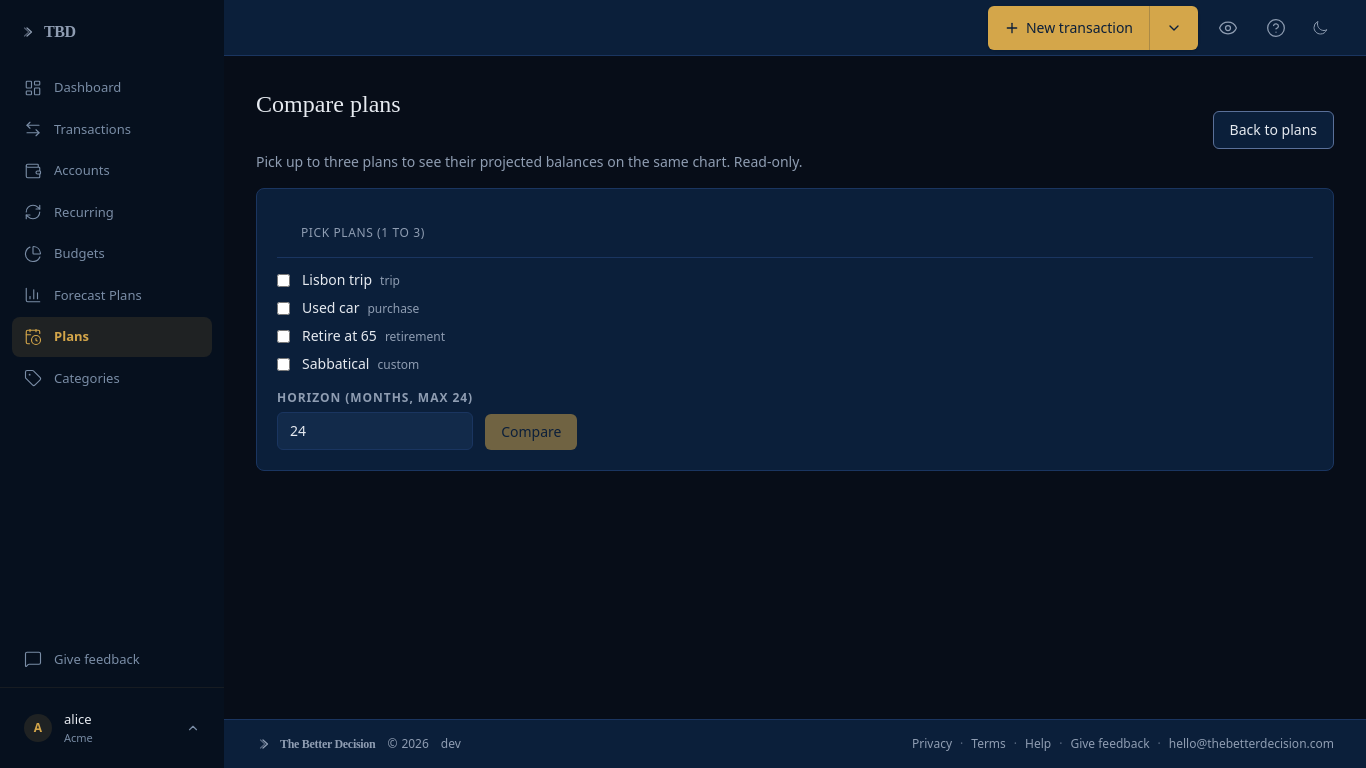
Test: /plans/compare page › selecting and clicking Compare POSTs to /api/v1/scenarios/compare and renders results
The width and height of the screenshot is (1366, 768).
Click the checkbox with test id "compare-plan-checkbox-1". click: click(284, 280)
box: [277,274,290,286]
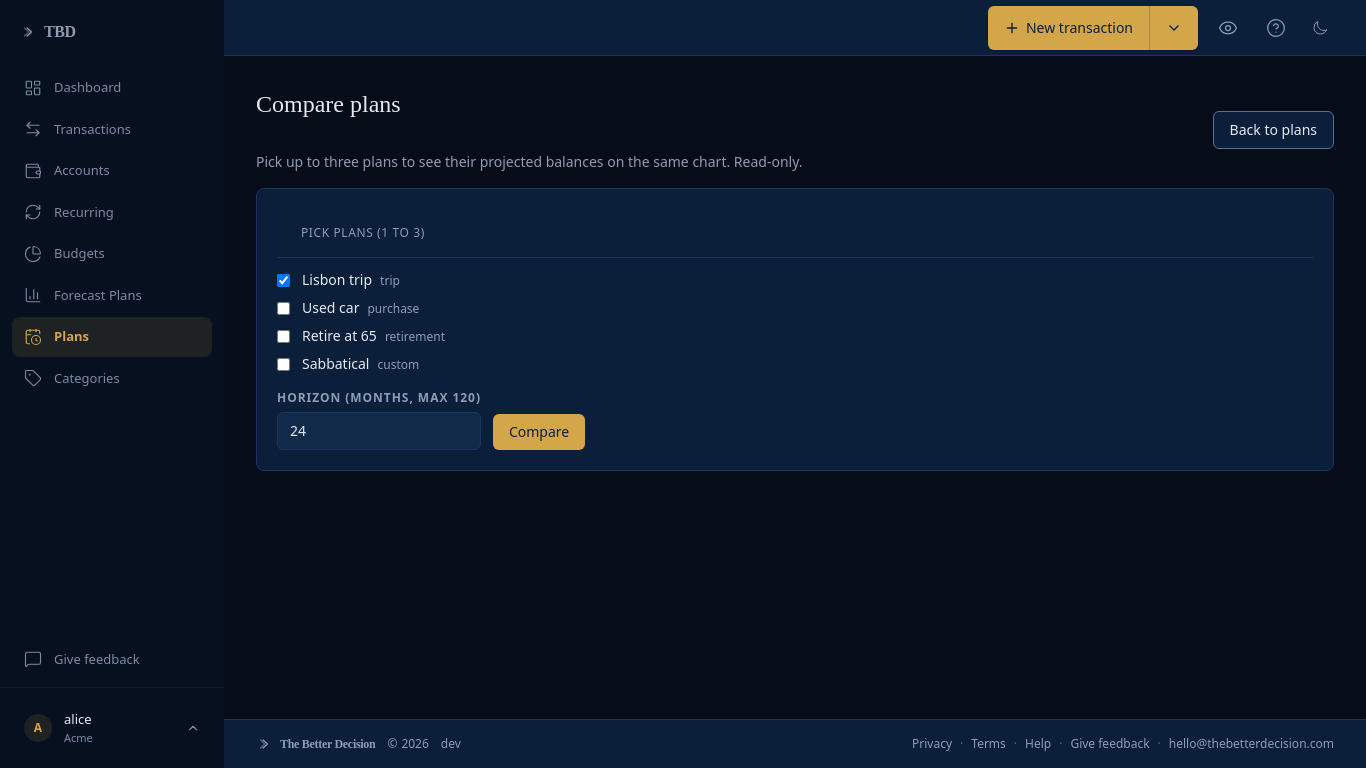
Click the checkbox with test id "compare-plan-checkbox-2". click: click(284, 308)
box: [277,302,290,314]
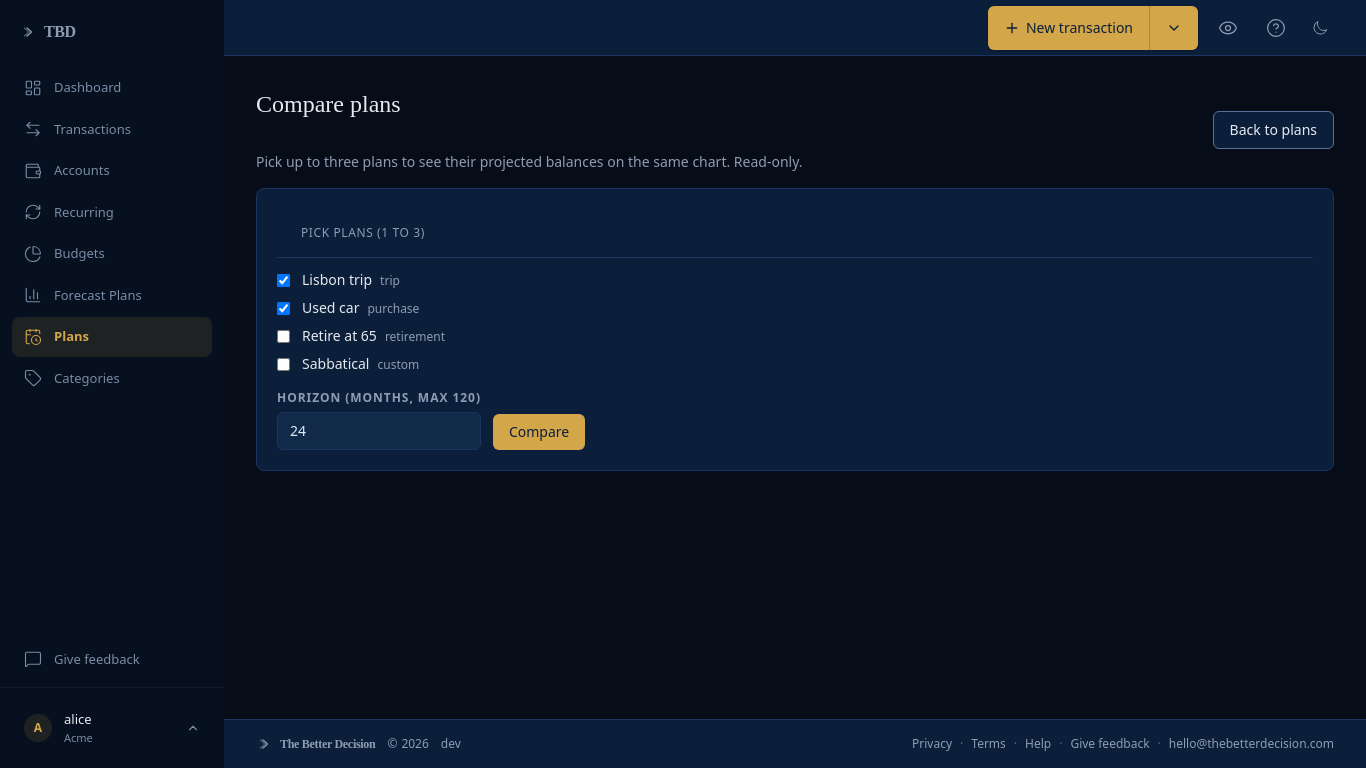
Click the button with test id "compare-run". click: click(539, 432)
box: [493,414,585,450]
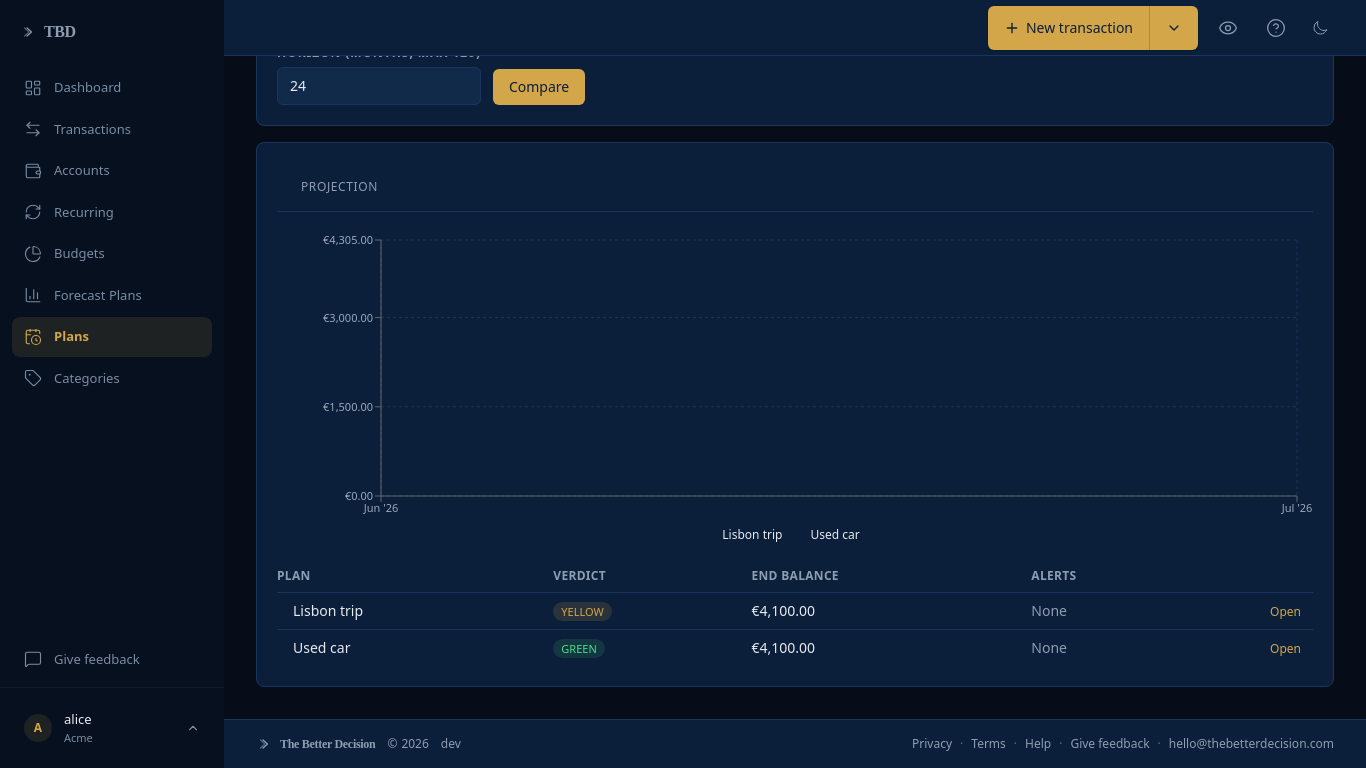
Check: the element with test id "compare-results" is shown, box [256,142,1334,687]
Check: the row with test id "comparison-view-row-1" is shown, box [277,592,1313,630]
Check: the row with test id "comparison-view-row-2" is shown, box [277,630,1313,666]
